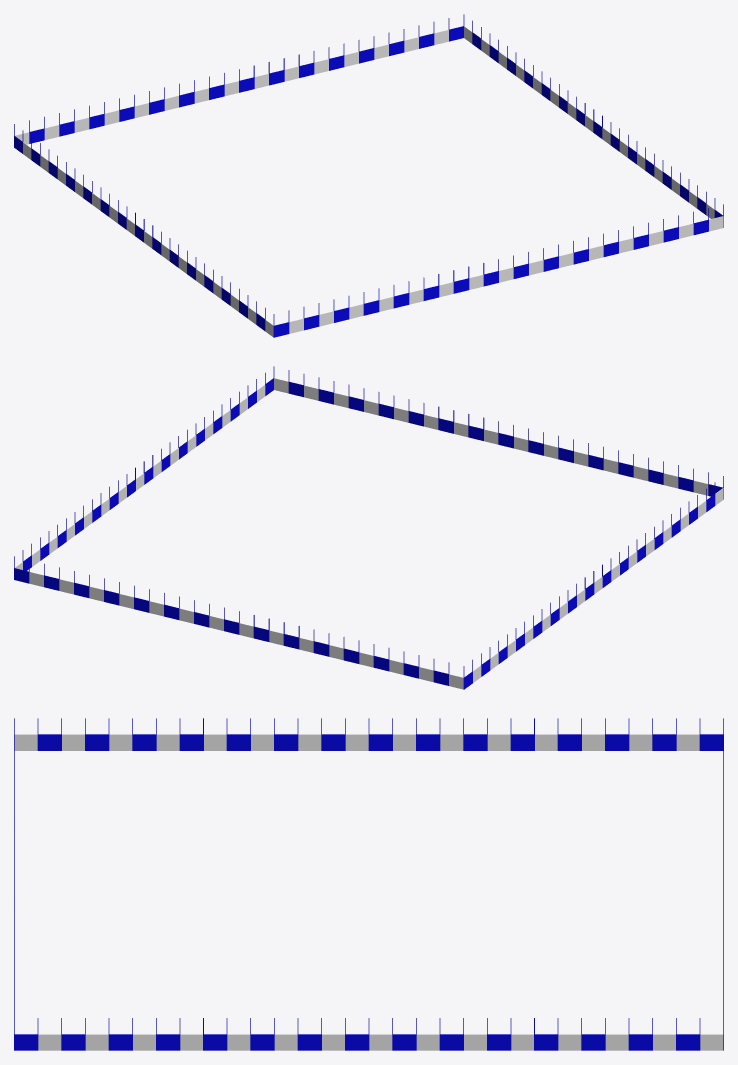
File: Fence30m.dae
3 renders of one model, top to bottom at view 1: azimuth 30°, elevation 25°; view 2: azimuth 150°, elevation 25°; view 3: azimuth 270°, elevation 25°, orthographic. The views are drawn at different scales.
Size of the model in its own units: 1182 by 1182 by 59.06.
